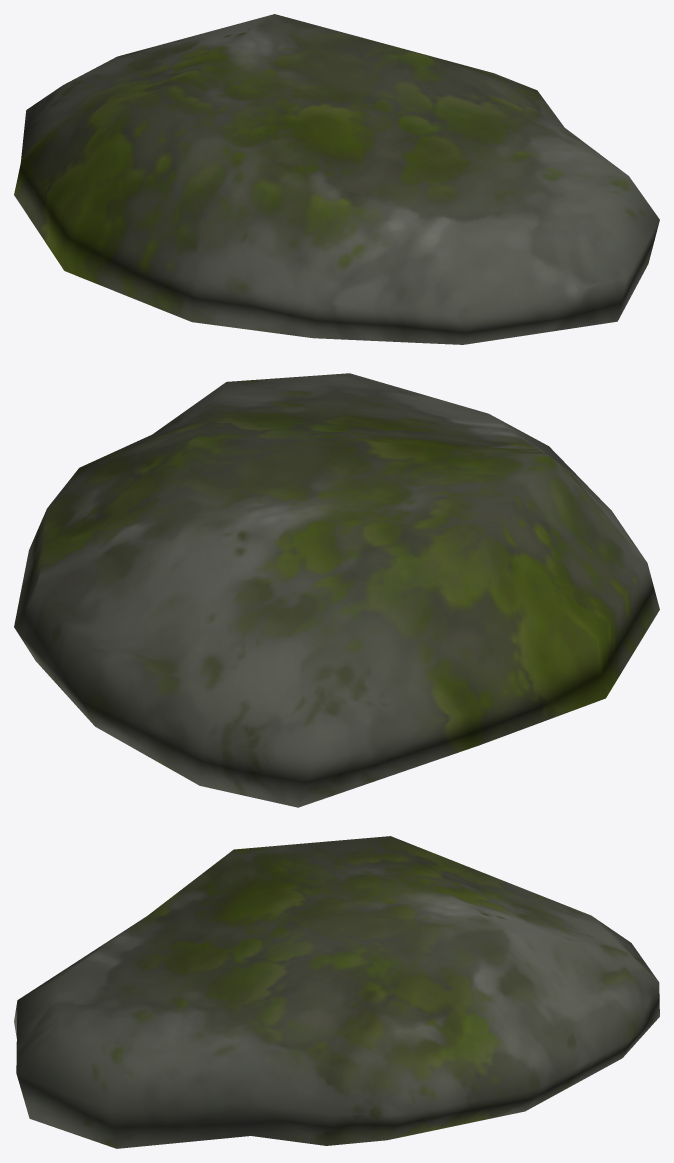
File: Smooth_Boulder_02.fbx
3 renders of one model, top to bottom at view 1: azimuth 30°, elevation 25°; view 2: azimuth 150°, elevation 25°; view 3: azimuth 270°, elevation 25°, orthographic. The views are drawn at different scales.
Parts seen in each view (by area): view 1: Smooth_Boulder_02; view 2: Smooth_Boulder_02; view 3: Smooth_Boulder_02.
Part boxes in pixels (<box>): Smooth_Boulder_02: <box>14,14,659,344</box>; Smooth_Boulder_02: <box>14,373,659,807</box>; Smooth_Boulder_02: <box>14,836,659,1148</box>.
Size of the model in its own units: 3.18 by 0.9677 by 3.91.
1 material, 1 textured.
